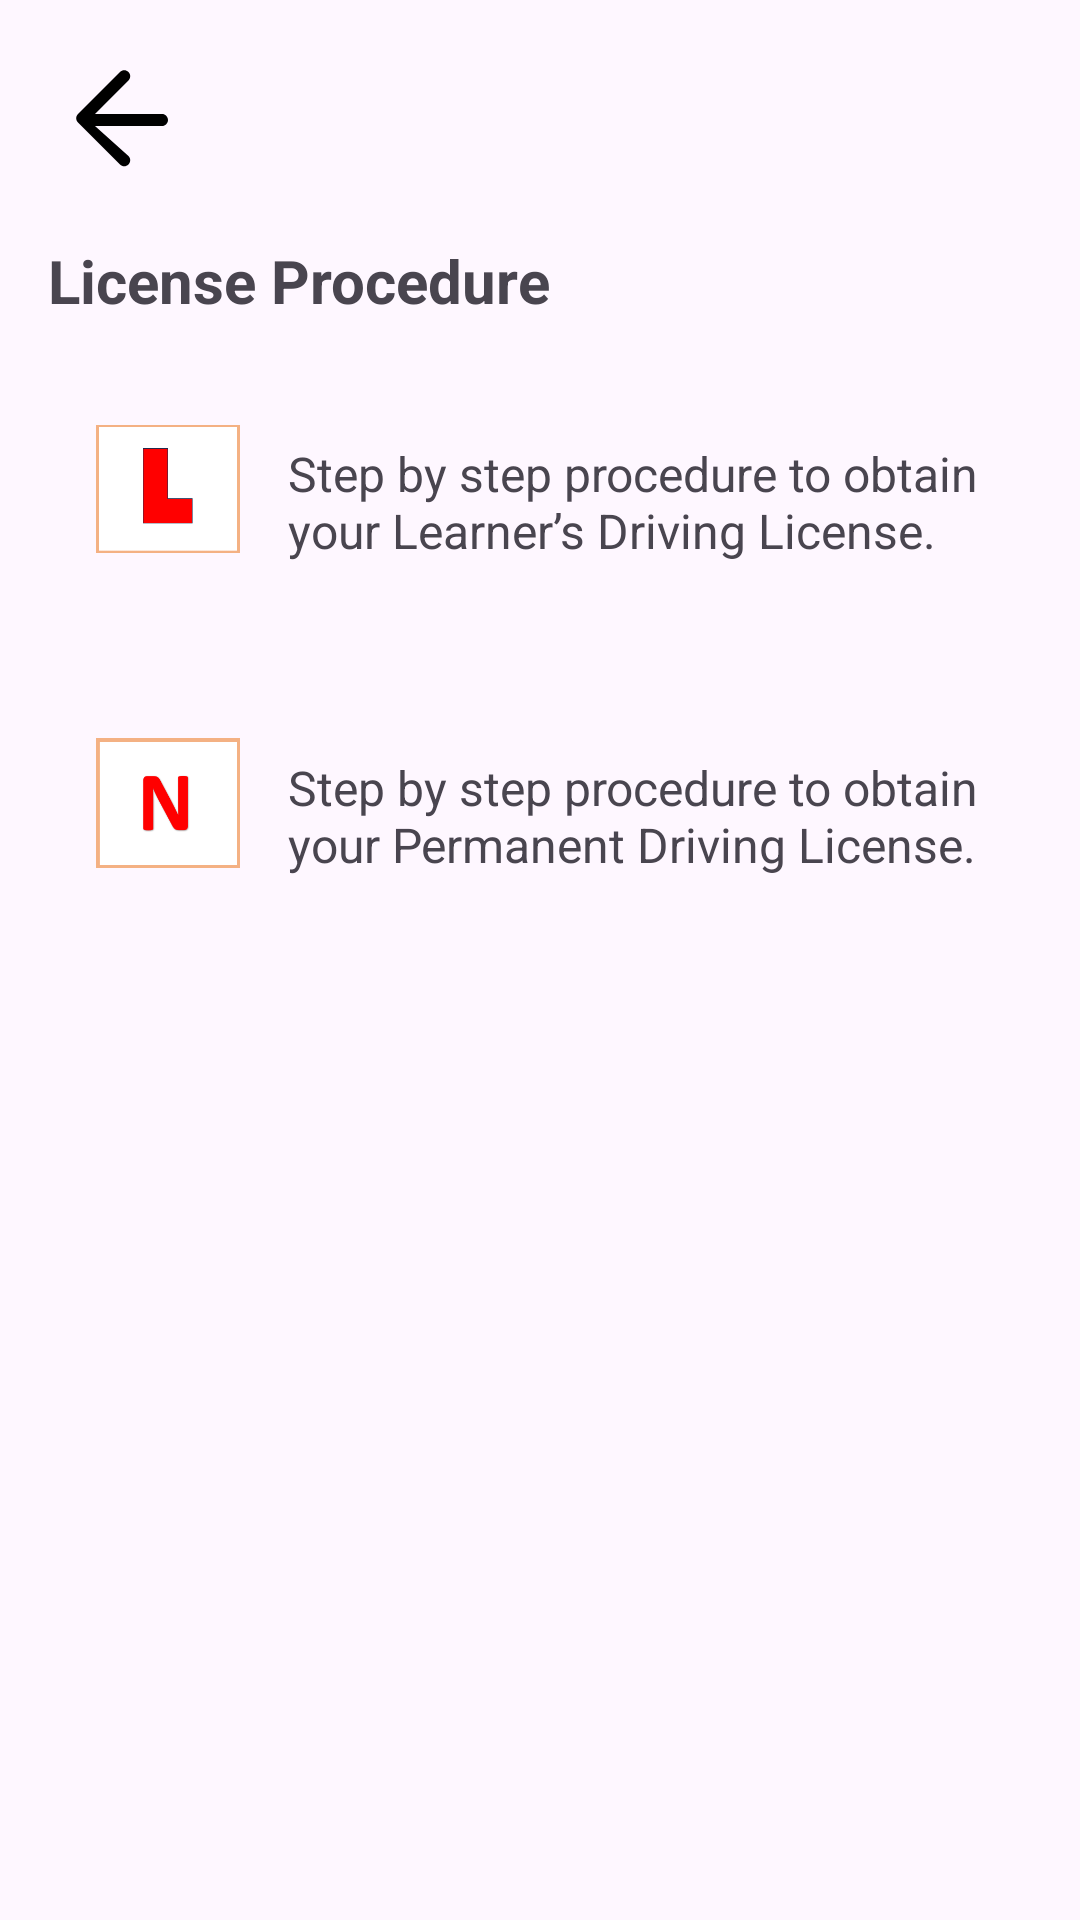

Named icons in this screenshot (1080 × 1920) and their bounding boxes, (x1, y1, x2, y2):
Back button: (76, 70, 168, 167)
